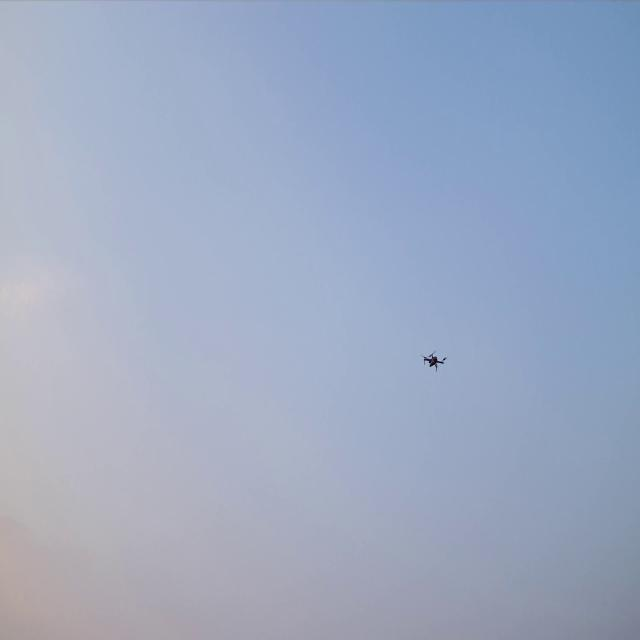UAV: (421, 349, 448, 373)
